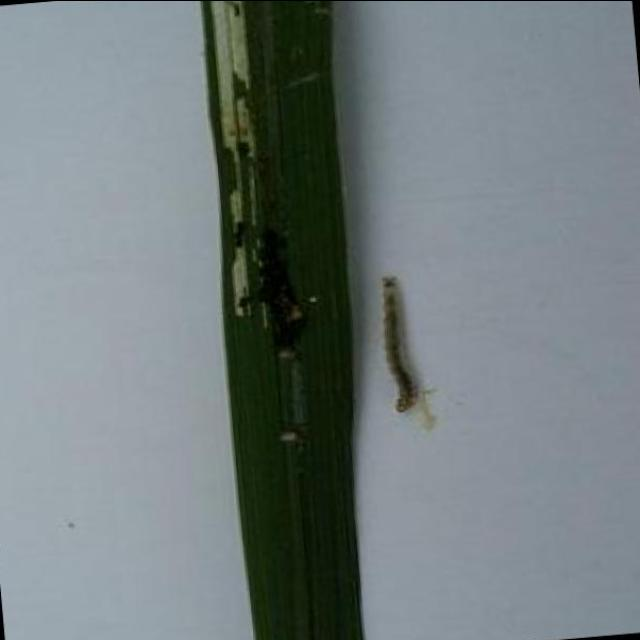leaf folder: (382, 277, 416, 412)
